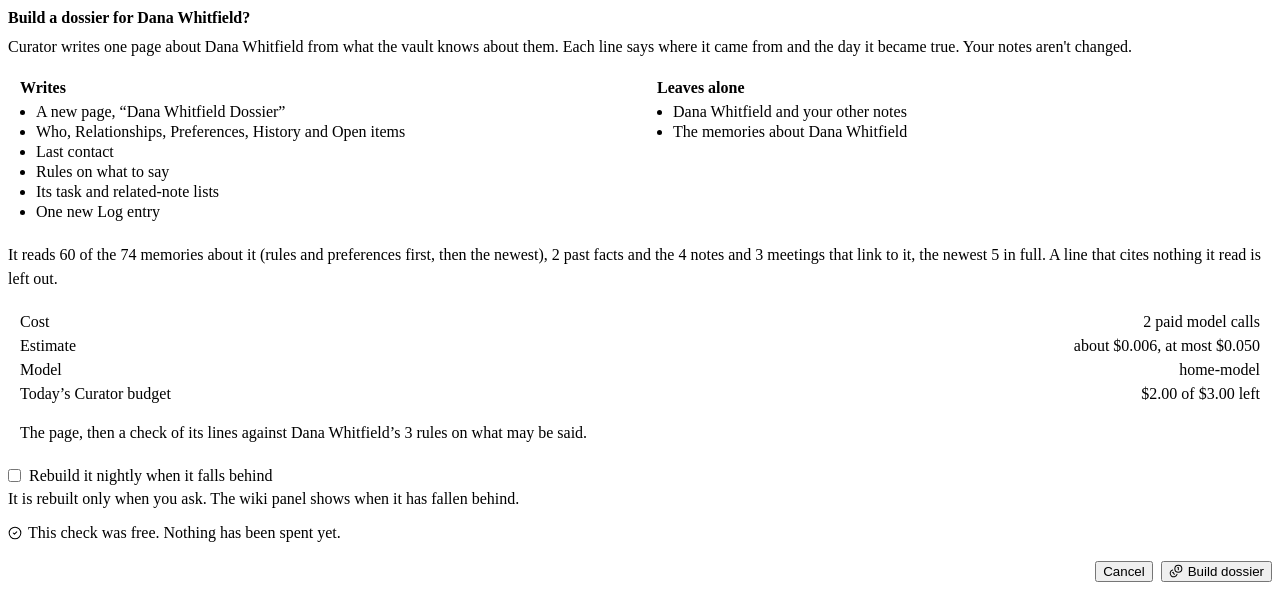
settles a build request with no clear reply by reading status, never starting it again
The width and height of the screenshot is (1280, 599).
Click the button "Build dossier". click: [1216, 571]
box: [1161,561,1272,582]
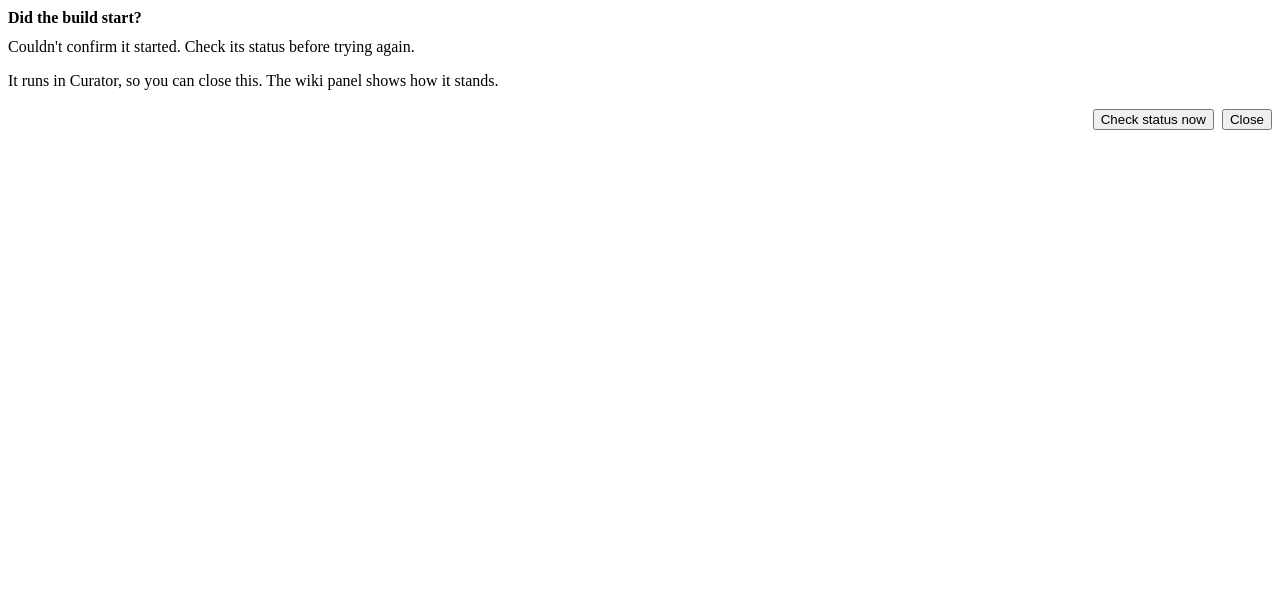
Check: the text "Couldn't confirm it started. Check its status before trying again." is shown, box [8,38,415,55]
Check: the heading "Did the build start?" is shown, box [8,9,142,26]
Click the button "Check status now". click: [1153, 119]
box: [1093,109,1214,130]
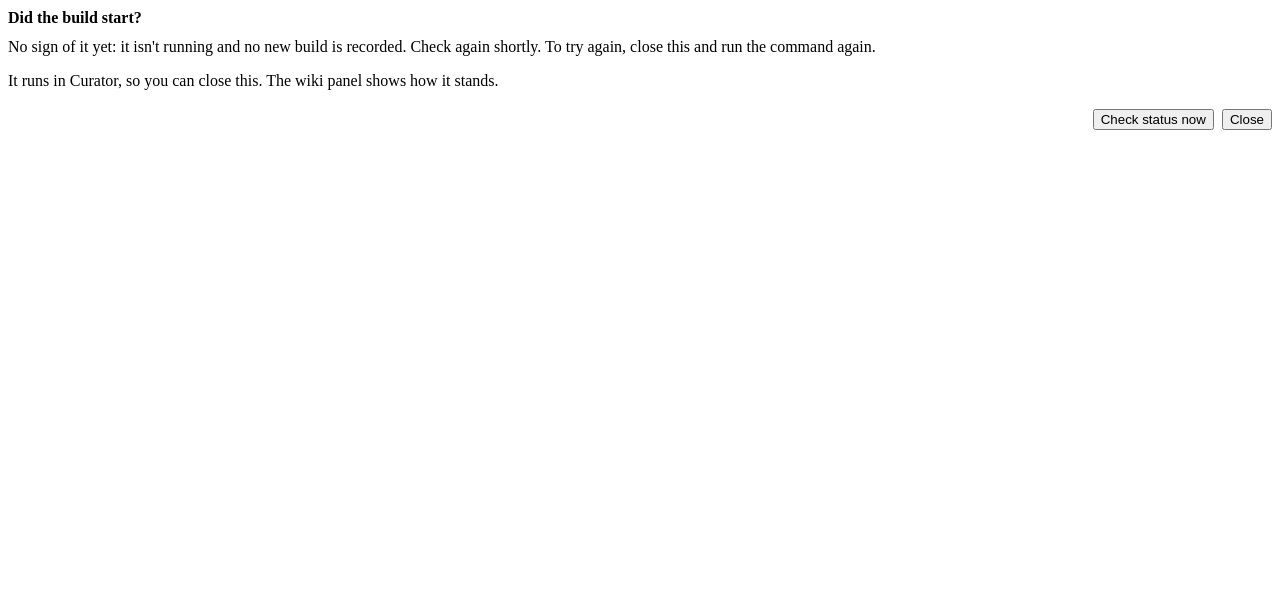
Check: the text "No sign of it yet" is shown, box [8,38,876,55]
